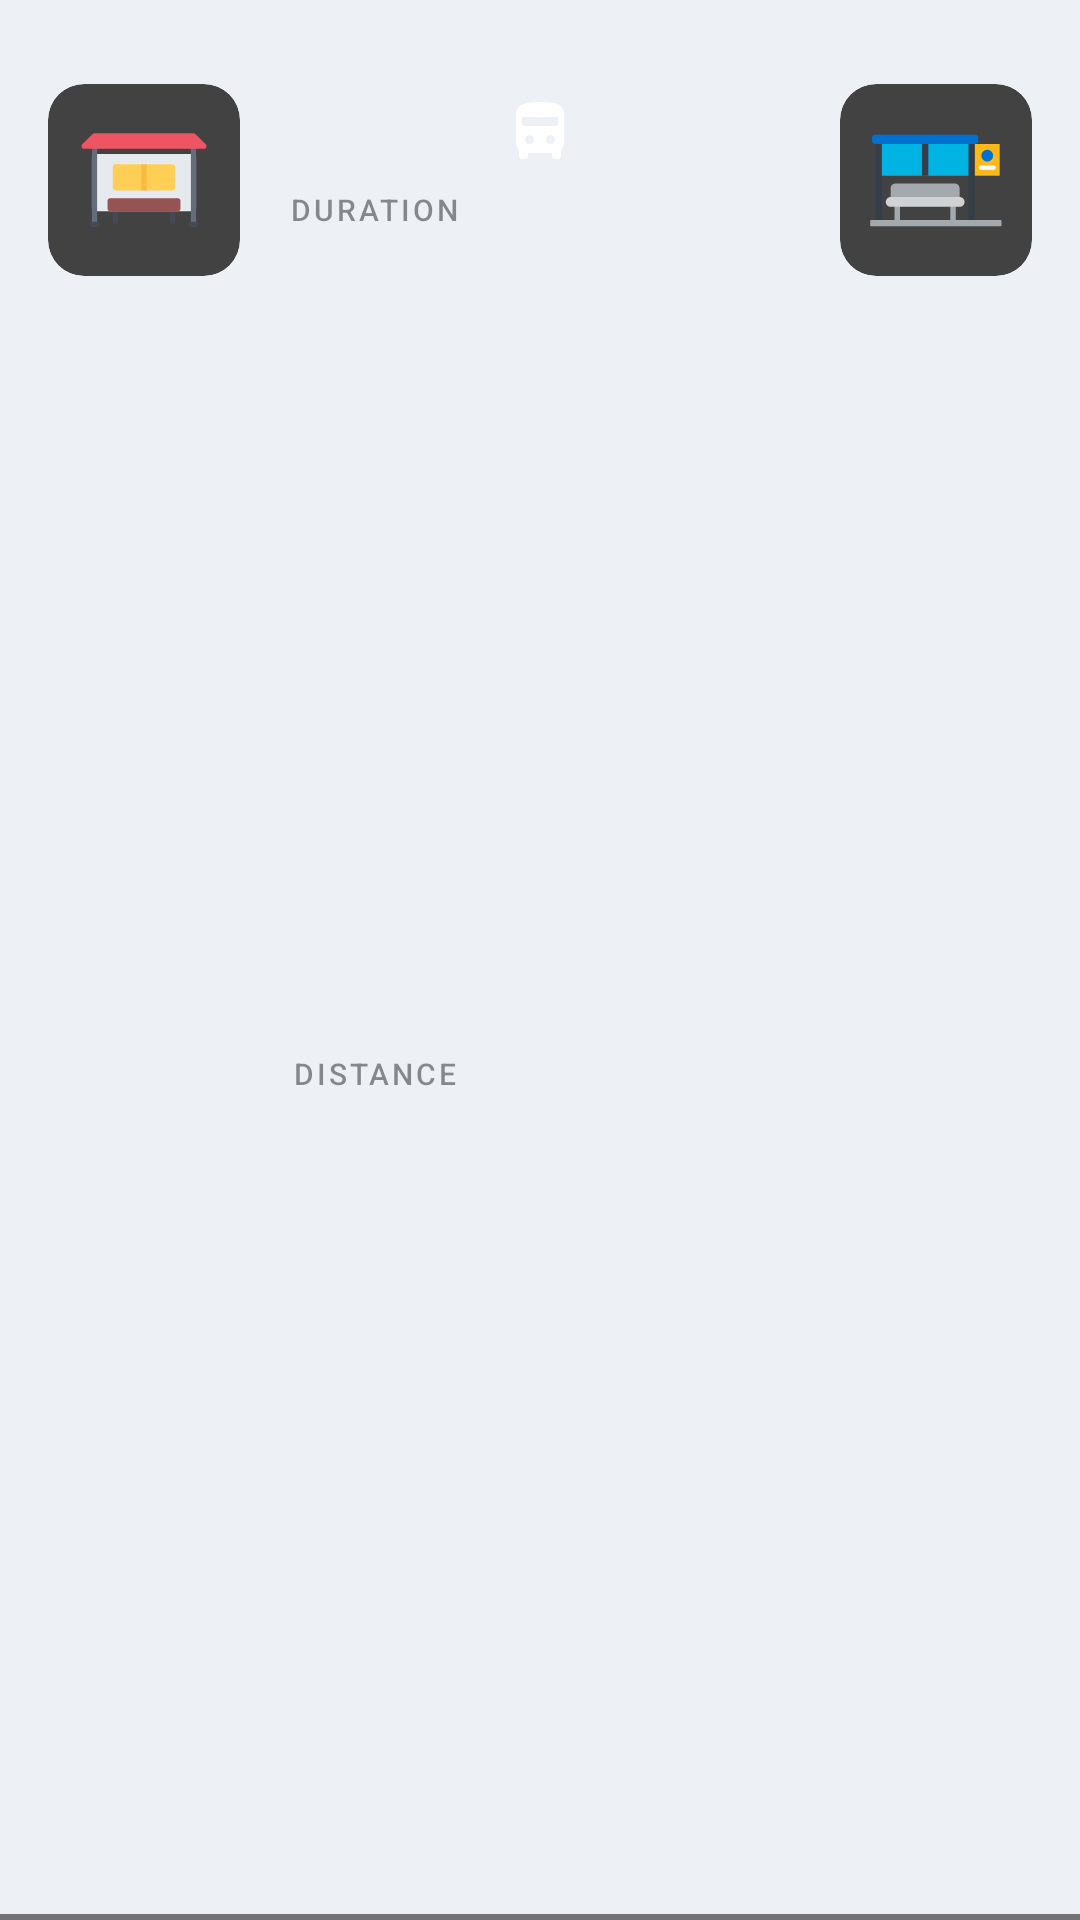

Where icons sit on this 1080px×1920px app screen, as box=[x1, y1, x2, y2]:
bus stop one: box=[81, 133, 207, 222]
bus stop two: box=[870, 134, 1002, 227]
